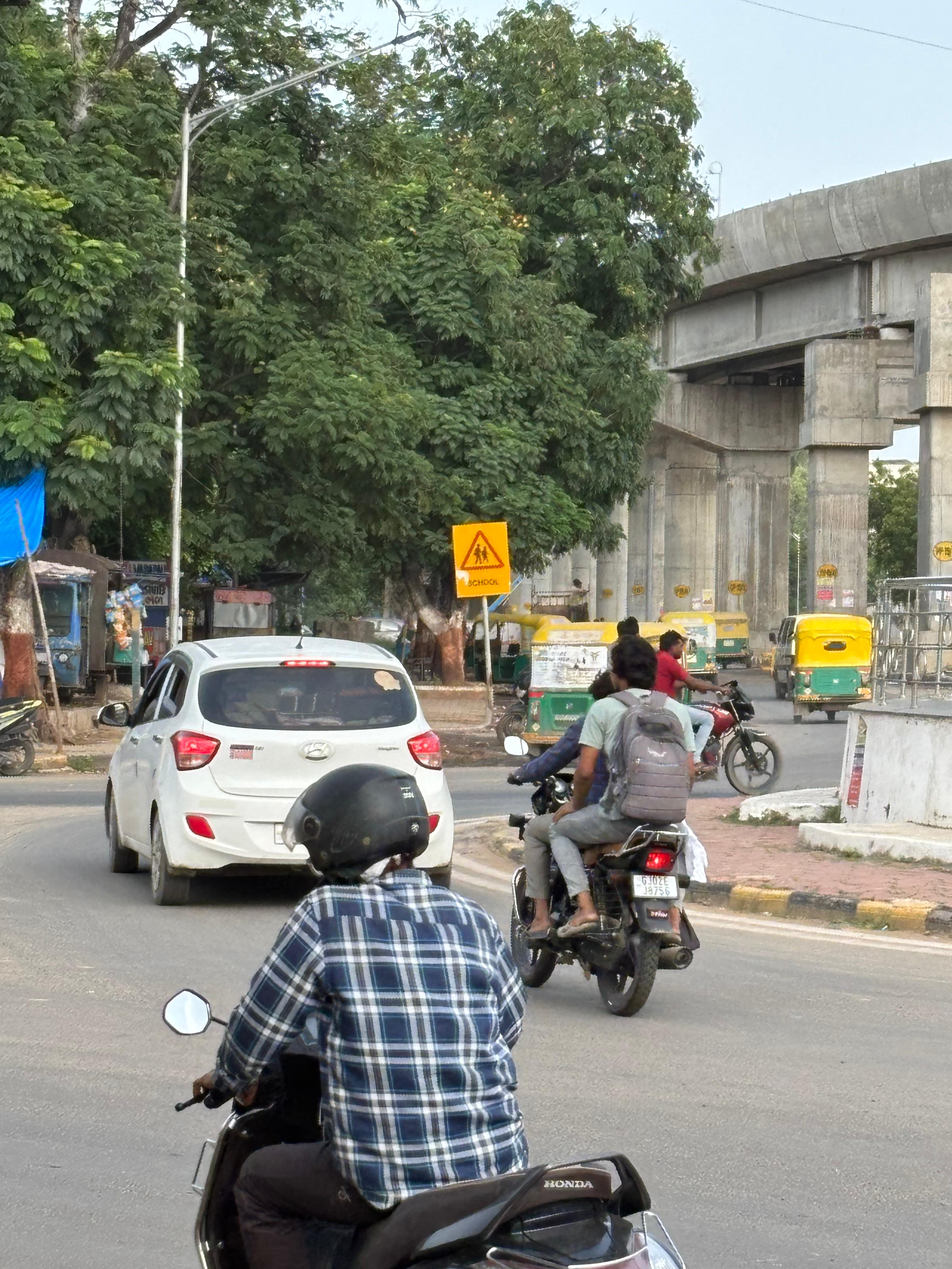BikeWithRider: (150, 751, 696, 1269), (492, 624, 718, 1023), (645, 622, 789, 800)
Helmet: (271, 754, 444, 893)
NoHelmet: (601, 634, 663, 697), (583, 667, 627, 712), (655, 625, 693, 664), (611, 612, 644, 655)
